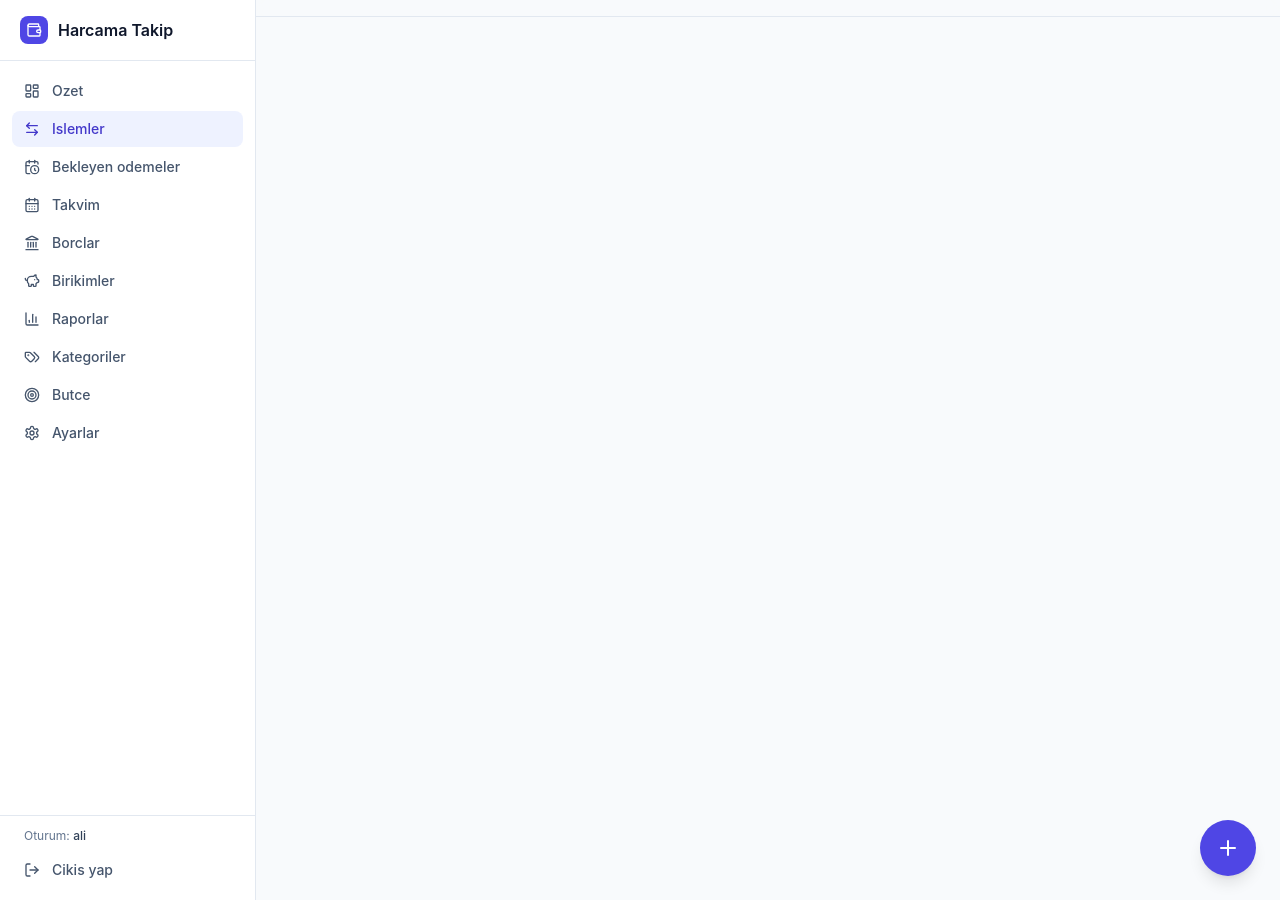
AppLayout yuzen + butonu › Hizli islem ekle butonu modali acar
Click the button named "Hizli islem ekle". click: (1228, 848)
box: [1200, 820, 1256, 876]
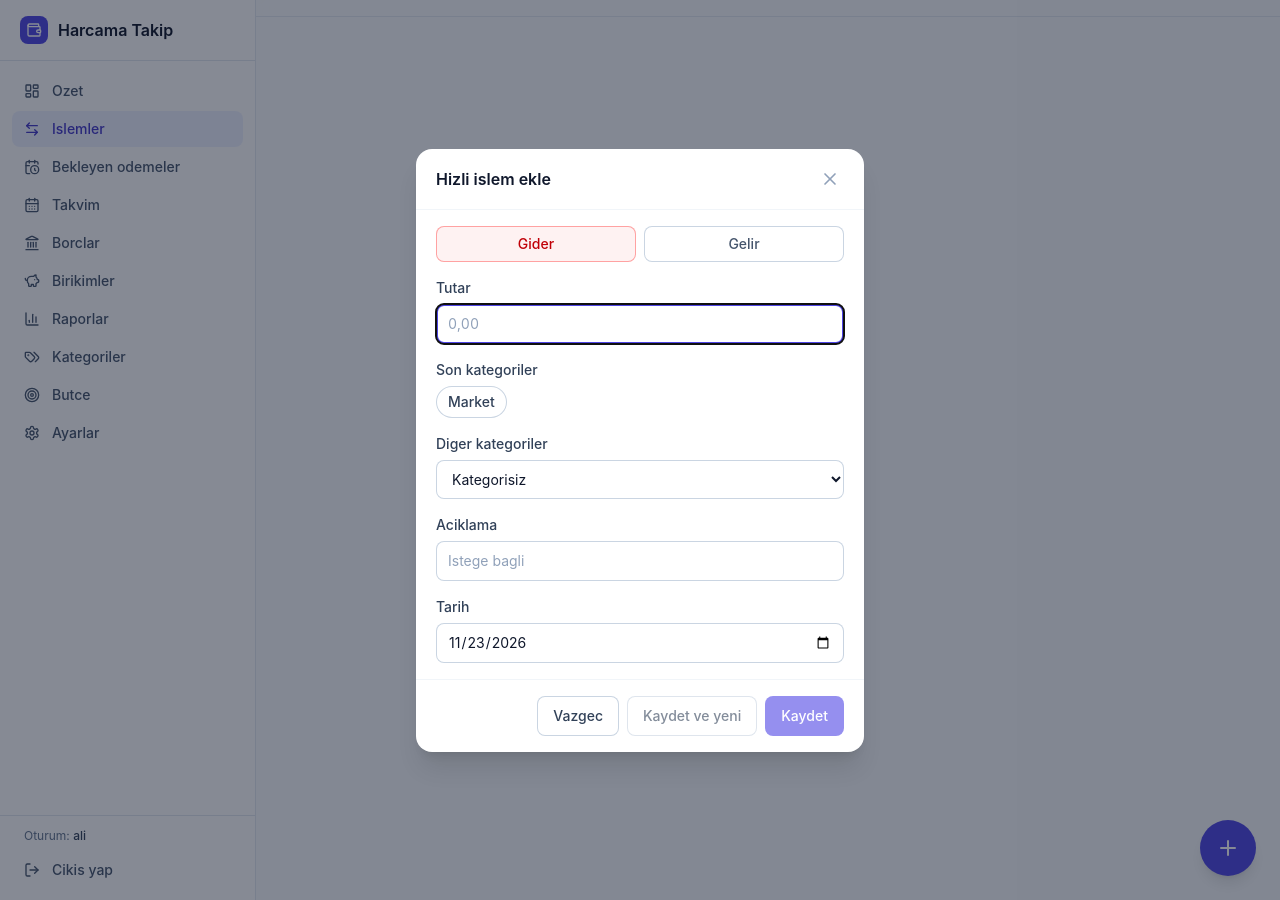
expect the dialog "Hizli islem ekle" is shown: met, box [416, 148, 864, 752]
